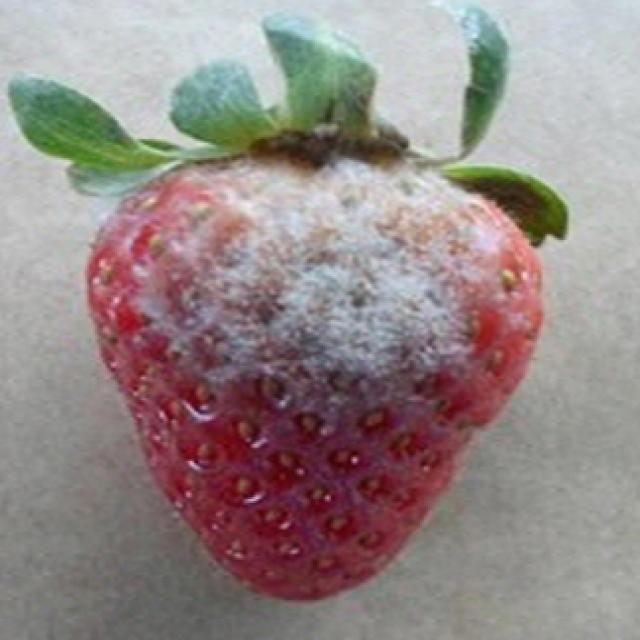Powdery Mildew Fruit: (97, 144, 547, 461)
